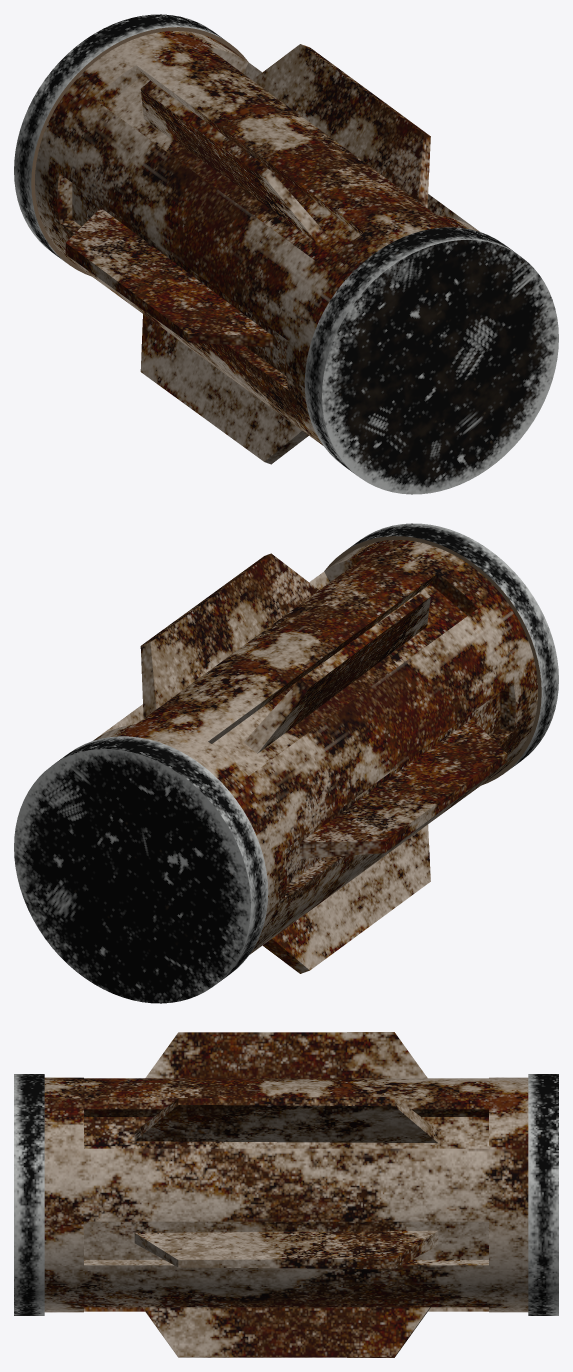
The picture shows the model from 3 angles, top to bottom: view 1: azimuth 30°, elevation 25°; view 2: azimuth 150°, elevation 25°; view 3: azimuth 270°, elevation 25°; orthographic projection. The views are drawn at different scales.
Parts seen in each view (by area): view 1: bool_obj.frozen_Baked, bool_obj.slice.frozen_Baked; view 2: bool_obj.frozen_Baked, bool_obj.slice.frozen_Baked; view 3: bool_obj.frozen_Baked, bool_obj.slice.frozen_Baked.
Boxes of the visible parts, <box> form: bool_obj.frozen_Baked: <box>35,31,479,464</box>; bool_obj.slice.frozen_Baked: <box>14,14,558,494</box>; bool_obj.frozen_Baked: <box>93,540,537,973</box>; bool_obj.slice.frozen_Baked: <box>14,523,558,1003</box>; bool_obj.frozen_Baked: <box>44,1032,528,1357</box>; bool_obj.slice.frozen_Baked: <box>14,1074,558,1315</box>.
Size of the model in its own units: 0.4477 by 0.3956 by 0.7485.
1 material, 1 textured.
